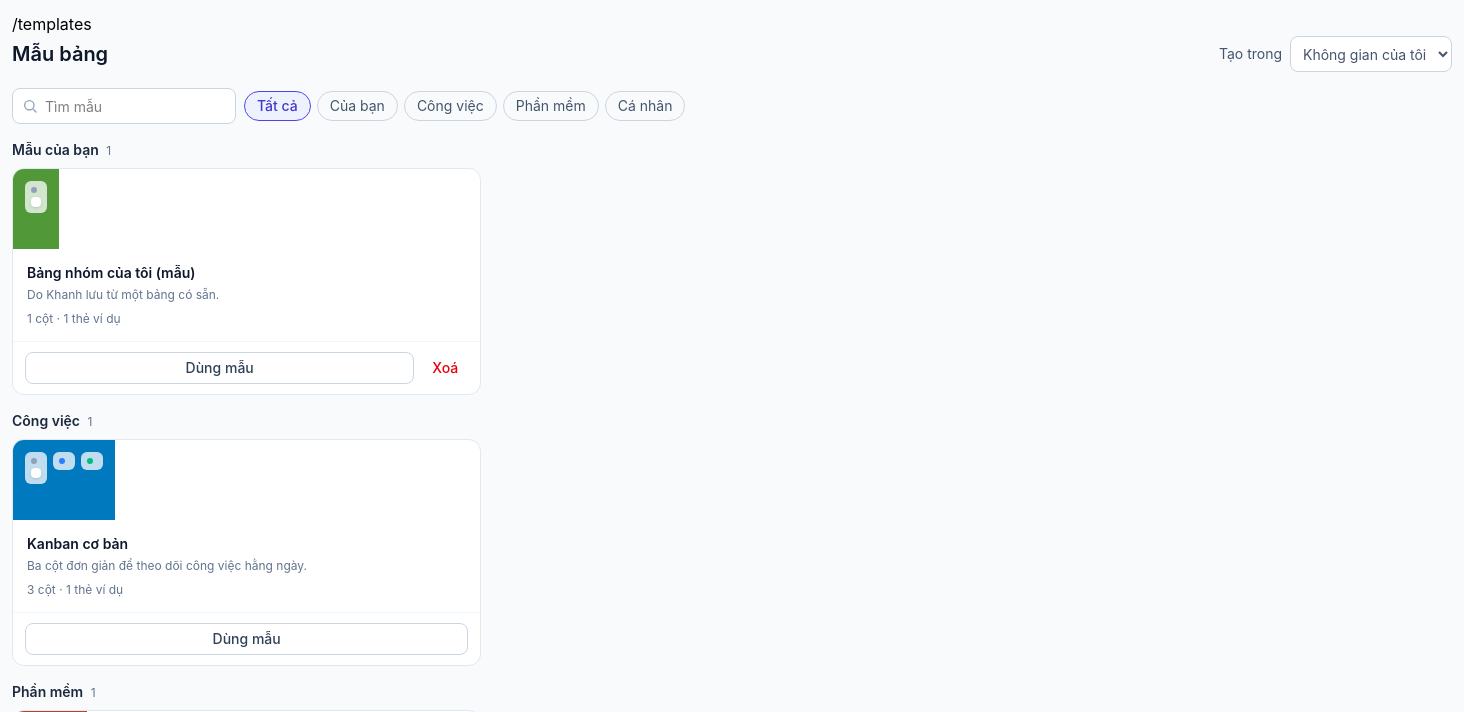
Test: TemplatesPage › lọc theo nhóm và tìm theo tên / cột / thẻ / nhãn không phân biệt dấu
Check: the element "Công việc" is shown, box [12, 412, 481, 666]
Click the button "Phần mềm": click(551, 106) [503, 91, 599, 121]
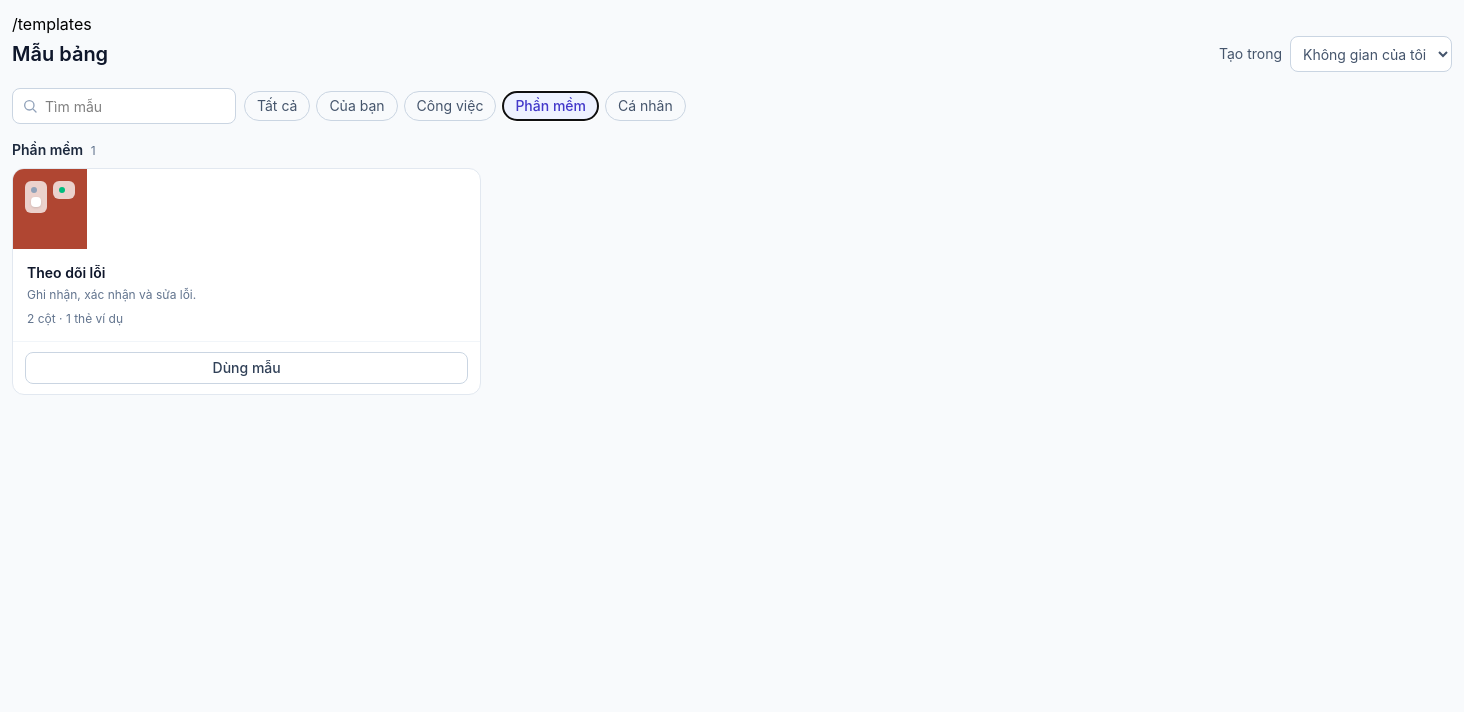
Check: the element "Phần mềm" is shown, box [12, 141, 481, 395]
Click the button "Tất cả": click(277, 106) [244, 91, 310, 121]
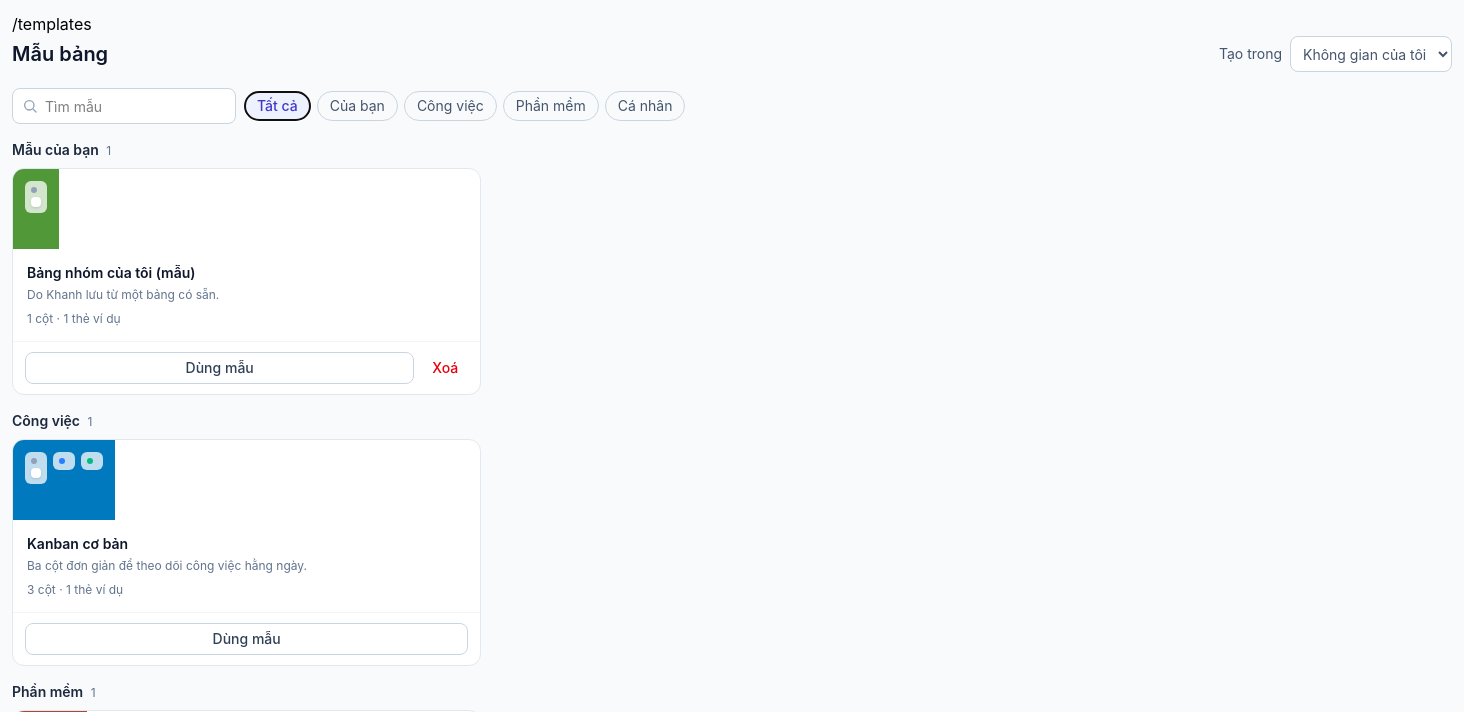
In the search field labelled "Tìm mẫu": (124, 106) [12, 88, 236, 124], type "nghiem trong"
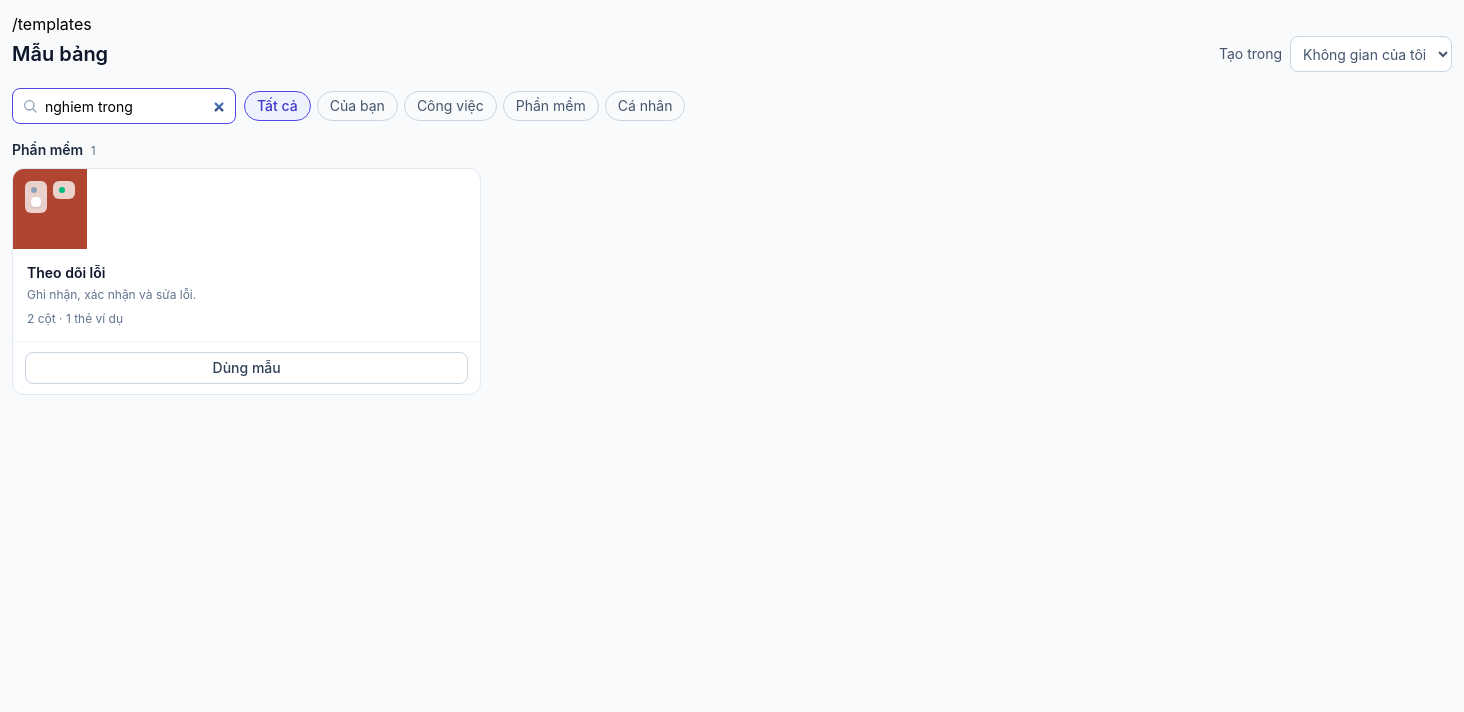
Check: the button with aria-label "Xem mẫu Theo dõi lỗi" is shown, box [13, 169, 480, 341]
Replace the text in the search field named "Tìm mẫu" with "khong co mau nao": (124, 106) [12, 88, 236, 124]
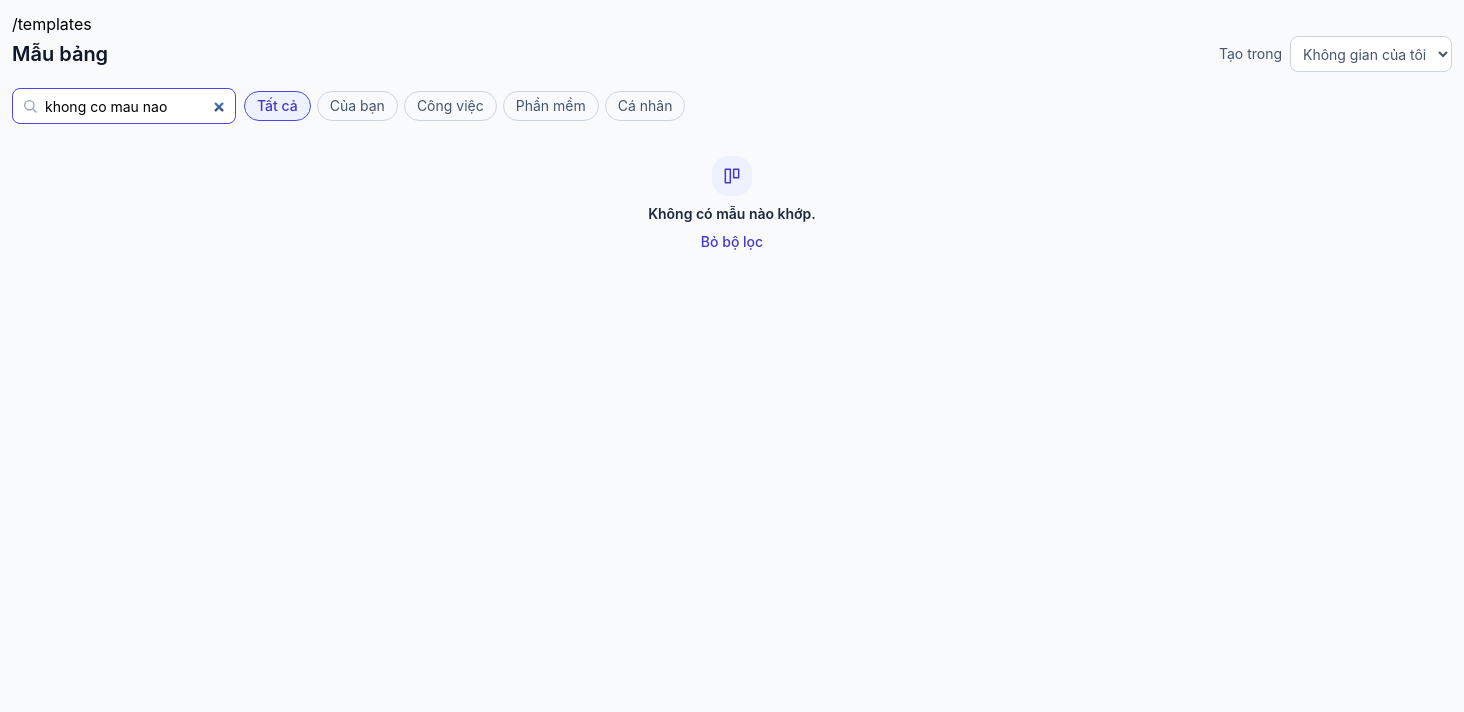
Check: the text "Không có mẫu nào khớp." is shown, box [648, 204, 816, 224]
Click the button "Bỏ bộ lọc": click(732, 242) [701, 232, 763, 252]
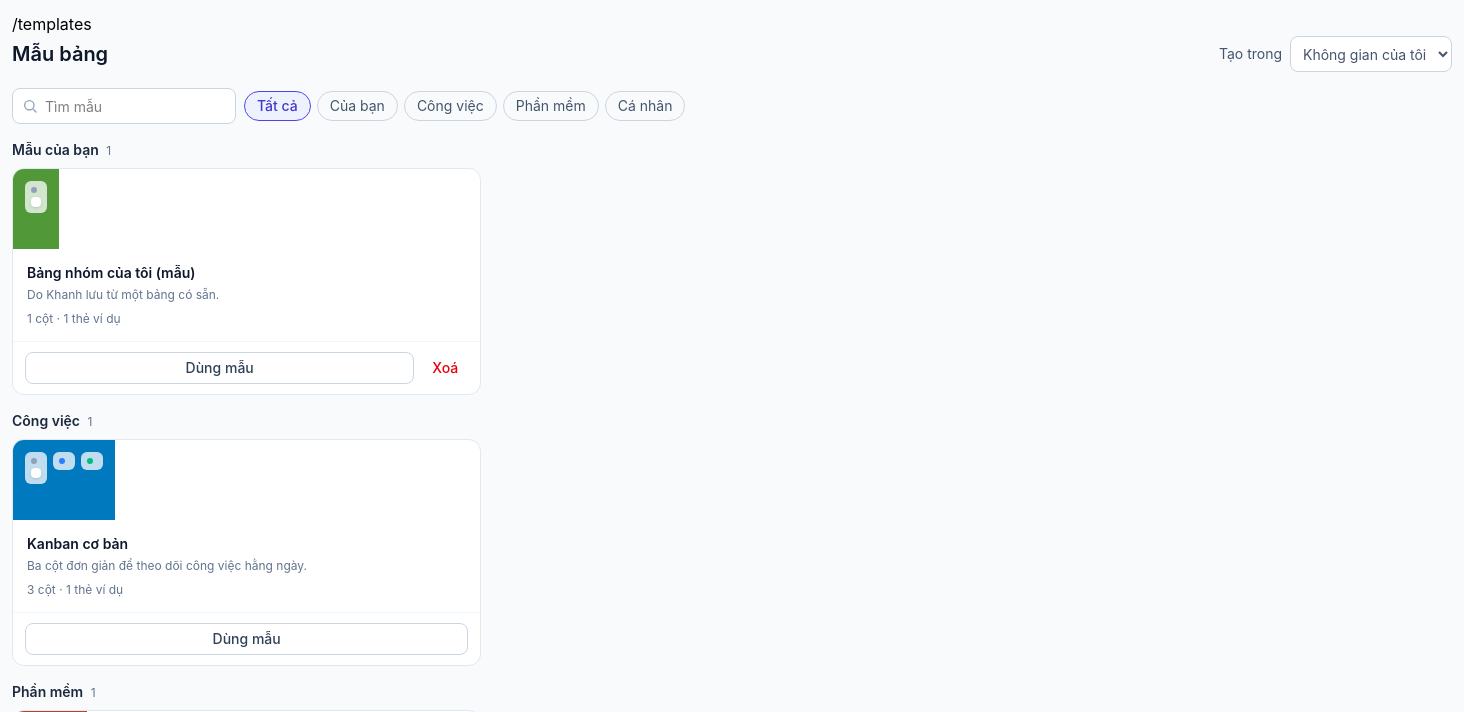
Check: the button with aria-label "Xem mẫu Kanban cơ bản" is shown, box [13, 440, 480, 612]
